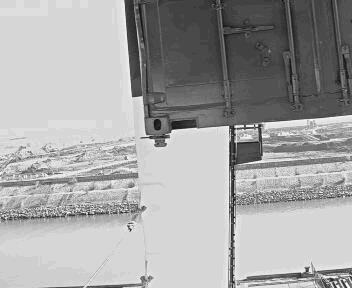twist_lock_1: (153, 128, 182, 151)
